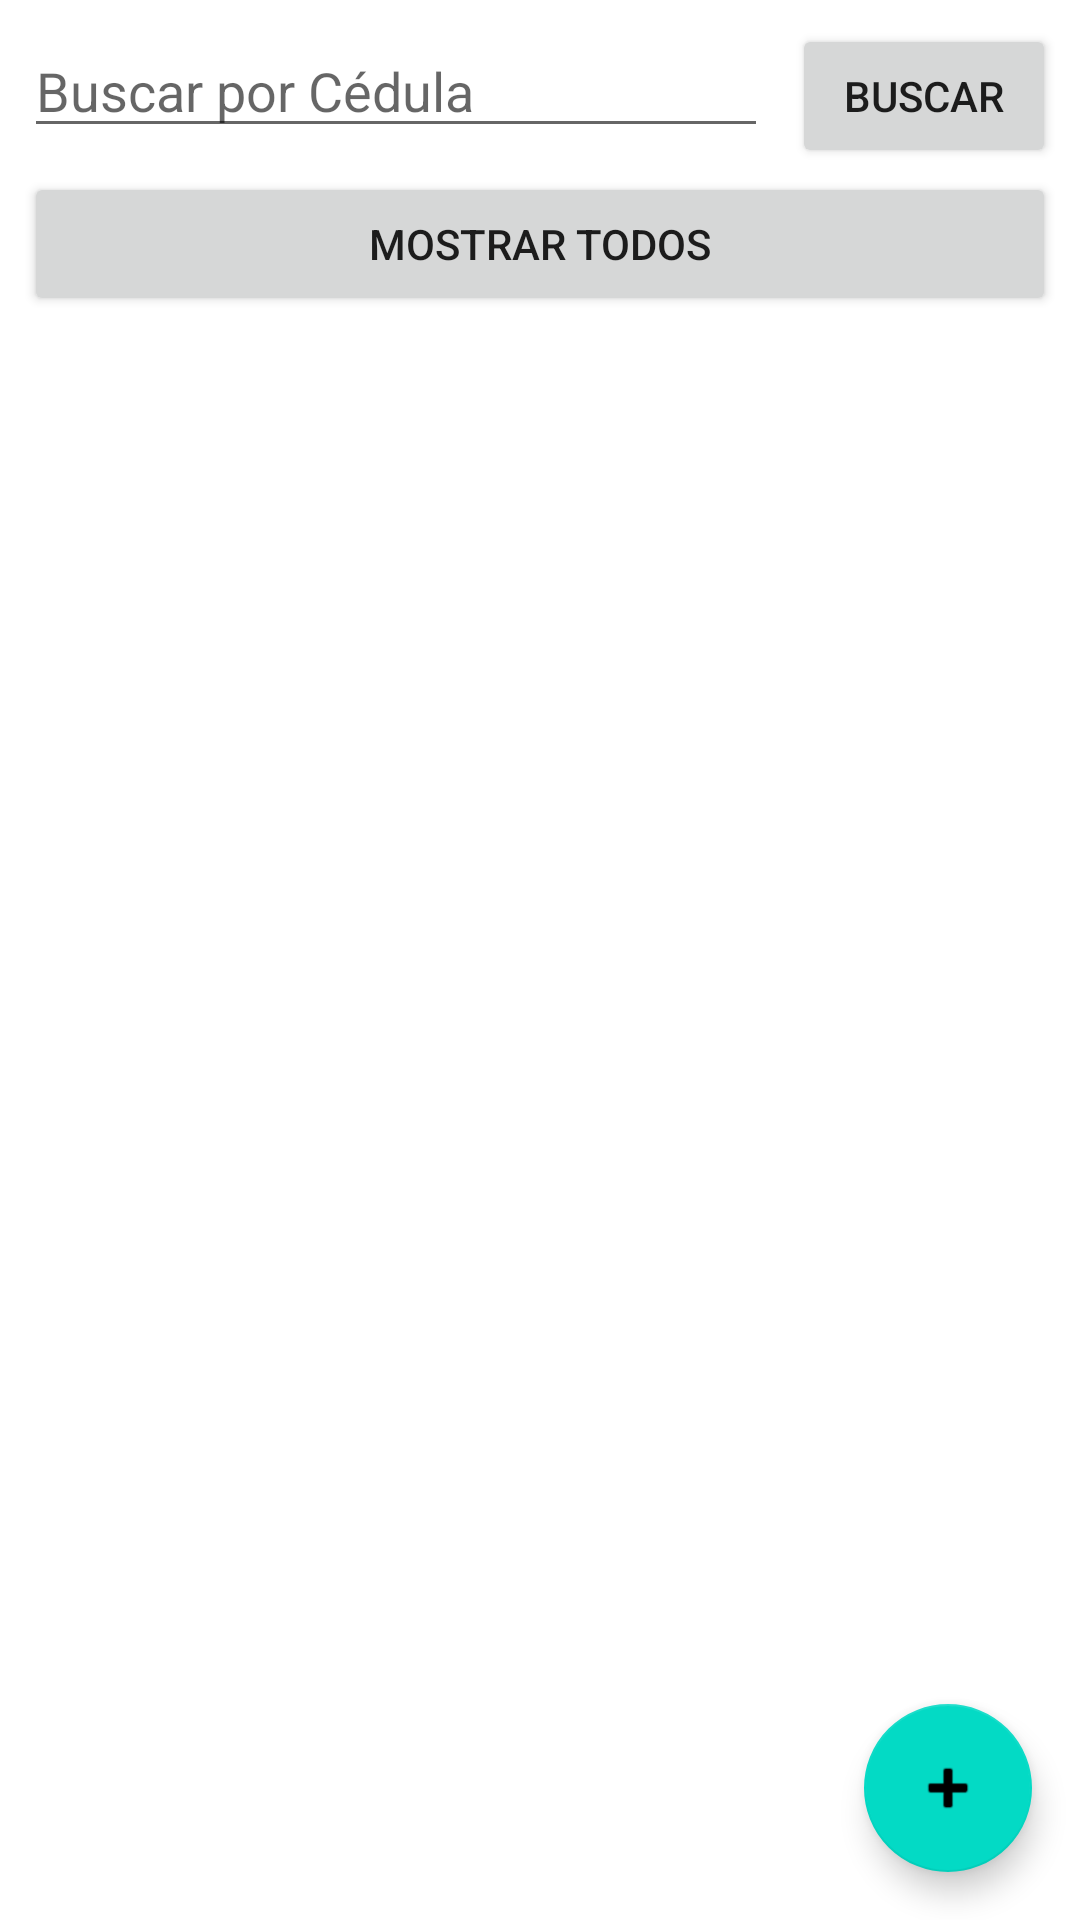

Locate icon controls on the screen. Image size 1080 × 1920, boxes as rect(x1, y1, x2, y2).
Agregar Nuevo Cliente: rect(864, 1704, 1032, 1872)
